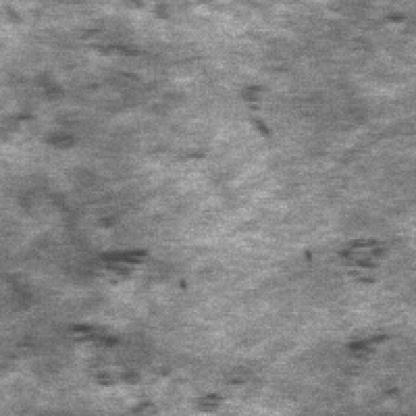rolled-in_scale: (4, 21, 148, 208), (62, 314, 162, 416), (331, 233, 387, 295)
